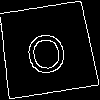O: (22, 24, 69, 76)
